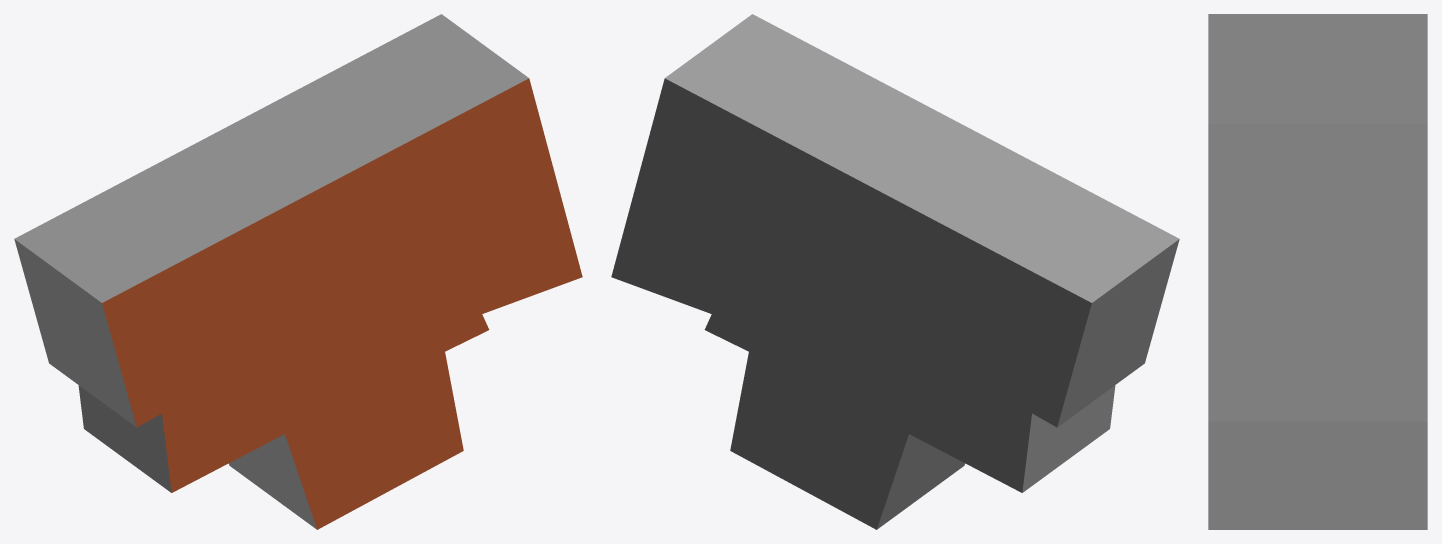
Rendered from construction_4158_assumed_A_Casa_h6m.obj.
3 views of the same model, side by side, from view 1: azimuth 30°, elevation 25°; view 2: azimuth 150°, elevation 25°; view 3: azimuth 270°, elevation 25° (orthographic). The views are drawn at different scales.
Visible parts, largest first — view 1: construction_4158_assumed_A_Casa; view 2: construction_4158_assumed_A_Casa; view 3: construction_4158_assumed_A_Casa.
Part boxes in pixels (bbox=[...]): construction_4158_assumed_A_Casa: bbox=[14, 14, 582, 529]; construction_4158_assumed_A_Casa: bbox=[611, 14, 1179, 529]; construction_4158_assumed_A_Casa: bbox=[1208, 14, 1427, 529].
Size of the model in its own units: 18.97 by 15.09 by 6.
